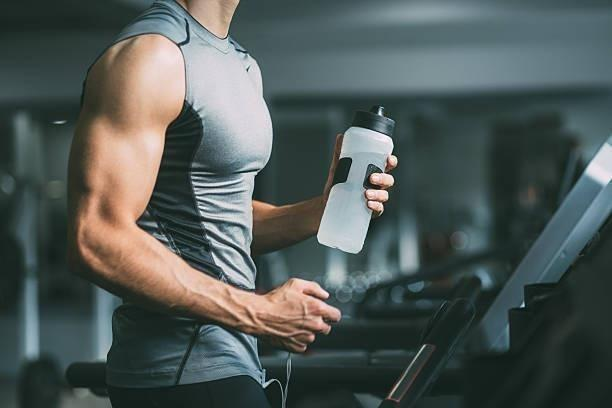gym bottle: (317, 103, 395, 256)
